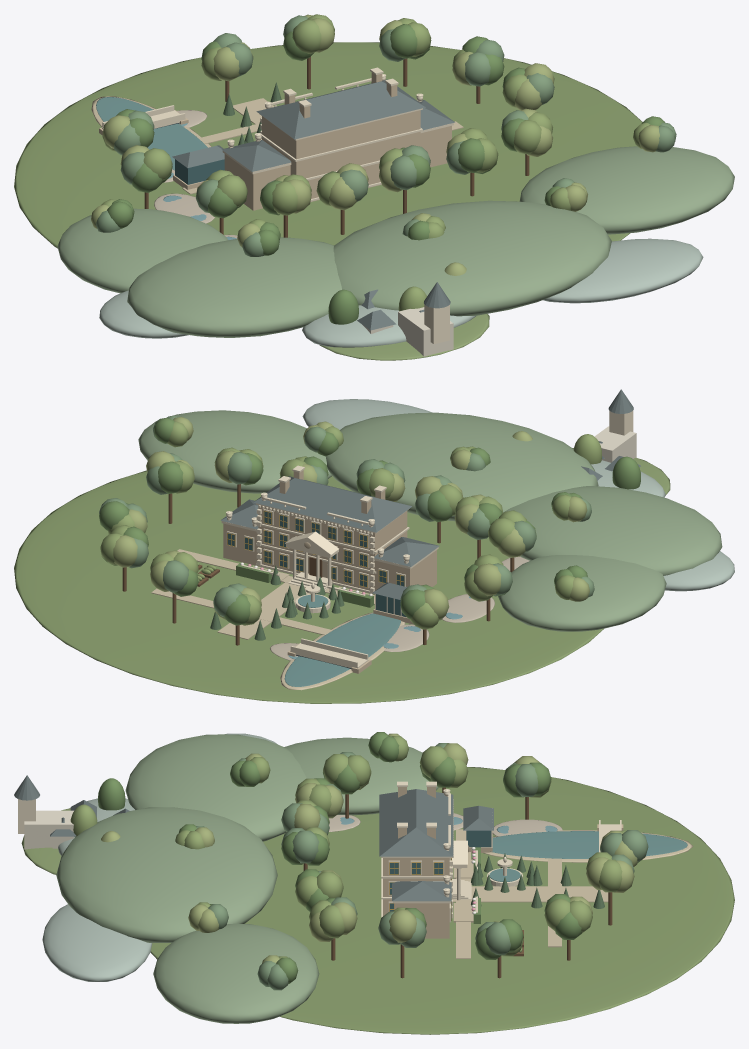
Rendered from estate.glb.
The picture shows the model from 3 angles, top to bottom: view 1: azimuth 30°, elevation 25°; view 2: azimuth 150°, elevation 25°; view 3: azimuth 270°, elevation 25°; orthographic projection. The views are drawn at different scales.
Parts seen in each view (by area): view 1: Meadow, Distant rise.001, Distant rise, Distant rise.002, Distant rise.003, Main house, Distant rise.005, Hipped slate roof, Distant rise.004, Village green, Lake, Distant rise.006 (+25 smaller); view 2: Meadow, Distant rise.001, Distant rise, Distant rise.003, Distant rise.002, Hipped slate roof, Main house, Lake, Distant rise.005, Distant rise.006, Main walk, Wing (+30 smaller); view 3: Meadow, Distant rise.001, Distant rise.002, Distant rise, Distant rise.005, Distant rise.003, Hipped slate roof, Lake, Main walk, Lambton church nave, Main house, Hipped slate roof.002 (+26 smaller).
Part boxes in pixels (x1=…): Meadow: x1=14, y1=42, x2=642, y2=248; Distant rise.001: x1=333, y1=200, x2=611, y2=316; Distant rise: x1=127, y1=237, x2=341, y2=337; Distant rise.002: x1=519, y1=146, x2=734, y2=234; Distant rise.003: x1=57, y1=208, x2=228, y2=293; Main house: x1=262, y1=110, x2=420, y2=201; Distant rise.005: x1=543, y1=238, x2=703, y2=303; Hipped slate roof: x1=256, y1=79, x2=425, y2=139; Distant rise.004: x1=302, y1=305, x2=475, y2=347; Village green: x1=319, y1=314, x2=489, y2=360; Lake: x1=96, y1=97, x2=207, y2=170; Distant rise.006: x1=99, y1=290, x2=188, y2=338; Meadow: x1=14, y1=470, x2=603, y2=703; Distant rise.001: x1=325, y1=412, x2=598, y2=521; Distant rise: x1=503, y1=486, x2=722, y2=575; Distant rise.003: x1=498, y1=555, x2=666, y2=631; Distant rise.002: x1=138, y1=410, x2=331, y2=493; Hipped slate roof: x1=253, y1=476, x2=411, y2=532; Main house: x1=258, y1=505, x2=407, y2=594; Lake: x1=284, y1=613, x2=400, y2=686; Distant rise.005: x1=302, y1=399, x2=432, y2=429; Distant rise.006: x1=663, y1=551, x2=734, y2=591; Main walk: x1=217, y1=582, x2=310, y2=639; Wing: x1=375, y1=550, x2=436, y2=590; Meadow: x1=150, y1=767, x2=734, y2=1034; Distant rise.001: x1=56, y1=807, x2=277, y2=942; Distant rise.002: x1=153, y1=923, x2=319, y2=1023; Distant rise: x1=125, y1=734, x2=306, y2=841; Distant rise.005: x1=42, y1=904, x2=152, y2=981; Distant rise.003: x1=284, y1=737, x2=438, y2=815; Hipped slate roof: x1=379, y1=789, x2=453, y2=856; Lake: x1=490, y1=831, x2=687, y2=858; Main walk: x1=452, y1=886, x2=608, y2=902; Lambton church nave: x1=24, y1=810, x2=73, y2=849; Main house: x1=383, y1=858, x2=449, y2=915; Hipped slate roof.002: x1=392, y1=881, x2=451, y2=901.
Bounding box in the file's own units: 50 × 7.88 × 52.05.
